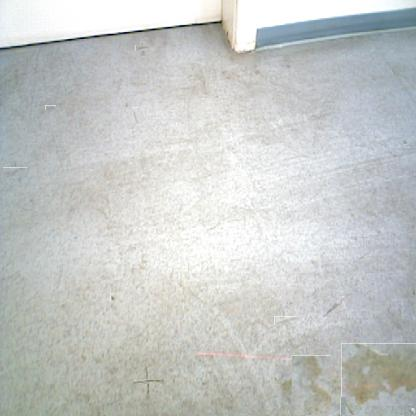liquid: (341, 343, 416, 406), (286, 361, 337, 411), (338, 398, 357, 416), (405, 406, 415, 416)
mark: (322, 295, 346, 317), (137, 371, 157, 391), (7, 164, 24, 182), (278, 313, 293, 328), (132, 107, 140, 124), (138, 43, 148, 54), (410, 286, 416, 296), (46, 104, 54, 111), (401, 138, 407, 146), (123, 100, 129, 108), (110, 293, 115, 302)
